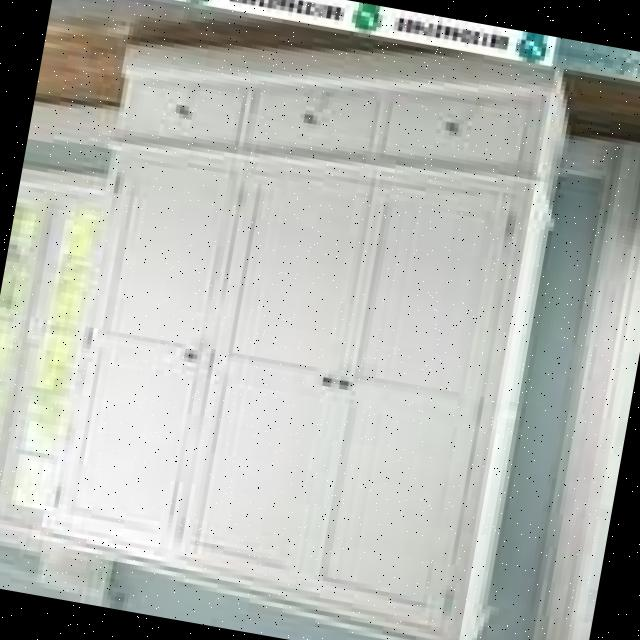Closet: (24, 0, 596, 640)
